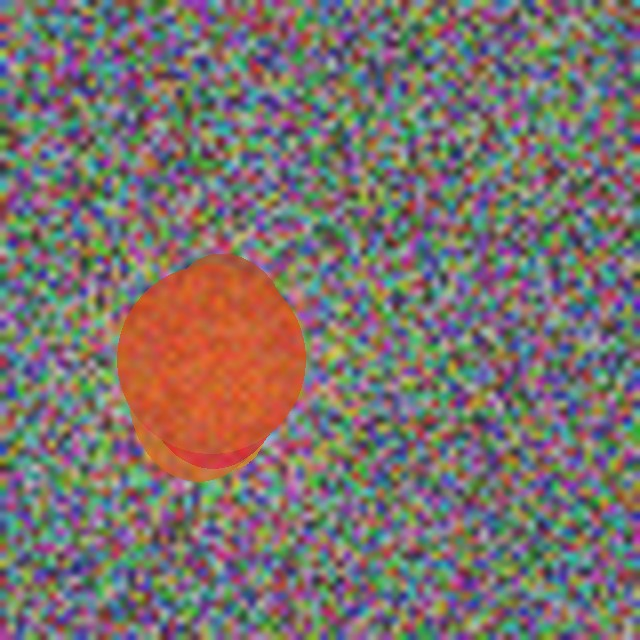fire: (132, 307, 300, 445)
